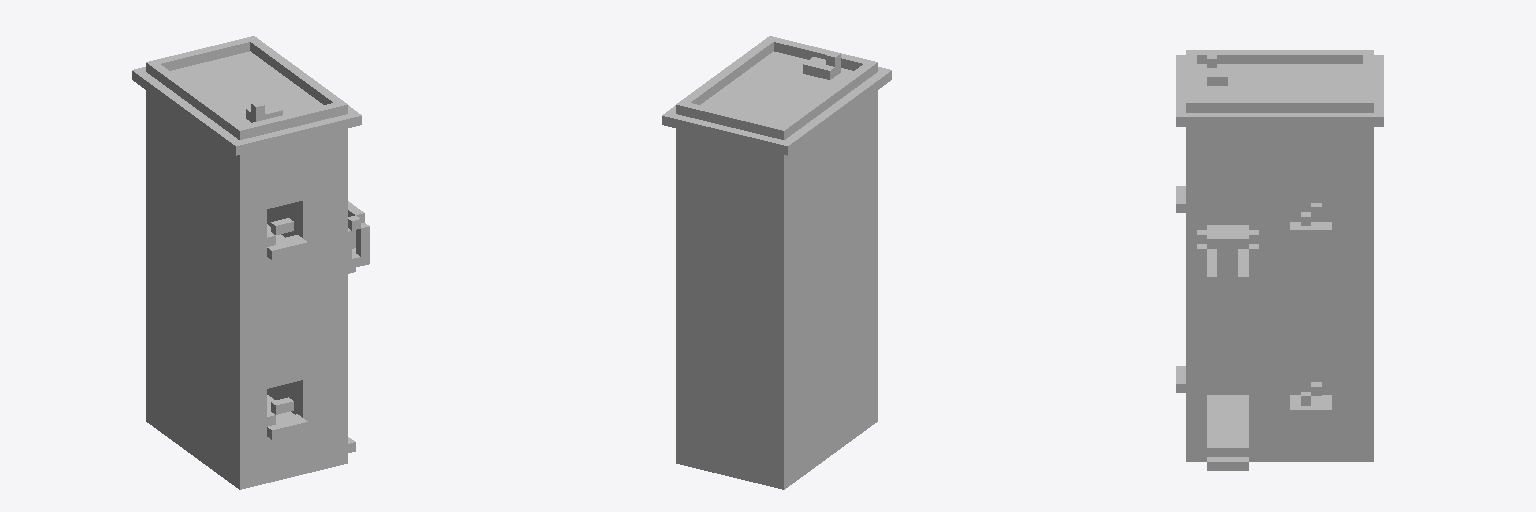
Rendered from house1Fin 1.obj.
3 renders of one model, left to right at view 1: azimuth 30°, elevation 25°; view 2: azimuth 150°, elevation 25°; view 3: azimuth 270°, elevation 25°, orthographic.
Parts seen in each view (by area): view 1: object 1; view 2: object 1; view 3: object 1.
Part boxes in pixels (x1,y1,x2,y2): object 1: (132,36,369,489); object 1: (662,36,891,489); object 1: (1176,50,1383,470).
Bounding box in the file's own units: 1.6 × 3.9 × 2.